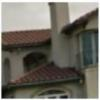chimneys: (50, 3, 72, 38)
